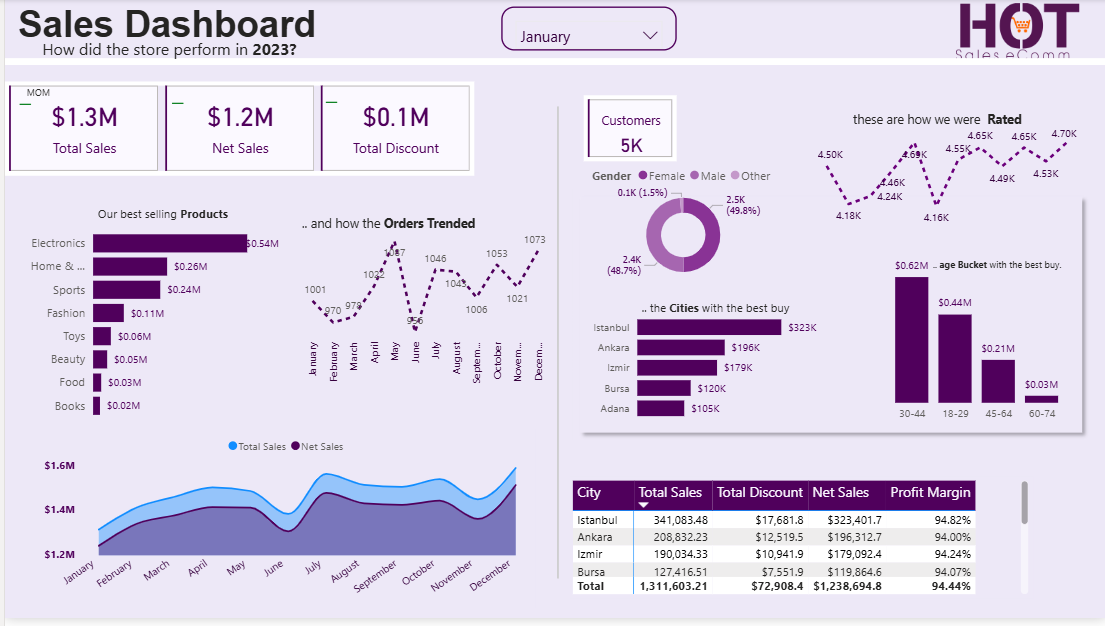

Layout of this report page (visuals, bound fields, positions):
{"tool":"powerbi","page":{"name":"Home","canvas":[1280,720],"ordinal":0},"visuals":[{"type":"shape","box":[659.5,220.3,601.4,291.9],"z":0},{"type":"pivotTable","fields":{"Rows":["location_dim.City"],"Values":["_Measures.Total Sales","_Measures.Total Discount","_Measures.Net Sales","_Measures.Profit Margin"]},"box":[654.7,554.7,539.6,141.5],"z":1000},{"type":"cardVisual","fields":{"Data":["_Measures.Total Sales","_Measures.Net Sales","_Measures.Total Discount"]},"box":[0,95.3,545.3,109.7],"z":2000},{"type":"clusteredBarChart","fields":{"Category":["product_dim.Product_Category"],"Y":["_Measures.Total Sales"]},"box":[10.9,250,312.5,250],"z":3000},{"type":"clusteredColumnChart","fields":{"Category":["customer_dim.Age_Bucket"],"Y":["_Measures.Total Sales"]},"box":[1009.3,286.7,241.3,213.3],"z":4000},{"type":"areaChart","fields":{"Category":["Data_Calendar.Date.Variation.Date Hierarchy.Month"],"Y":["_Measures.Total Sales","_Measures.Net Sales"]},"box":[40.3,500,575.8,208.1],"z":5000},{"type":"image","box":[1084.8,0,187,76.1],"z":6000},{"type":"shape","box":[0,60.2,1280.1,26.3],"z":7000},{"type":"textbox","box":[10.3,0,366,76.3],"z":8000},{"type":"textbox","box":[20.3,40.7,341.5,37.8],"z":9000},{"type":"cardVisual","fields":{"Data":["_Measures.Total Count of Customer"]},"box":[673.6,111.5,108,77],"z":10000},{"type":"shape","box":[631.1,125.7,24.3,548.6],"z":11000},{"type":"donutChart","fields":{"Category":["customer_dim.Gender"],"Y":["_Measures.Total Count of Customer"]},"box":[654.3,184.8,269.6,150],"z":12000},{"type":"lineChart","fields":{"Category":["Data_Calendar.Date.Variation.Date Hierarchy.Month"],"Y":["_Measures.Customer Rating"]},"box":[939.6,138.5,311,130.8],"z":13000},{"type":"lineChart","fields":{"Category":["Data_Calendar.Date.Variation.Date Hierarchy.Month"],"Y":["_Measures.Total Orders"]},"box":[334.4,257.8,300,203.1],"z":14000},{"type":"textbox","box":[102.6,234.9,169.7,34.2],"z":15000},{"type":"textbox","box":[980.5,125.6,300,50],"z":16000},{"type":"textbox","box":[340.1,244.9,300,30.6],"z":17000},{"type":"slicer","fields":{"Values":["Data_Calendar.Date.Variation.Date Hierarchy.Month"]},"box":[577.3,9.3,204.1,51.5],"z":19000},{"type":"cardVisual","fields":{"Data":["_Measures.%MOM"]},"box":[0,79.5,79.5,74.7],"z":20000},{"type":"textbox","box":[20.5,92.8,38.6,33.1],"z":21000},{"type":"cardVisual","fields":{"Data":["_Measures.%MOM Net Sales"]},"box":[177.5,78.4,79.9,74],"z":22000},{"type":"cardVisual","fields":{"Data":["_Measures.%MOM Discount Sales"]},"box":[355.6,76.1,90.6,77.8],"z":23000},{"type":"textbox","box":[735.6,343.9,188.6,31.1],"z":24000},{"type":"textbox","box":[1073.5,293.9,177.3,31.1],"z":25000},{"type":"clusteredBarChart","fields":{"Category":["location_dim.City"],"Y":["_Measures.Net Sales"]},"box":[673.7,350,281.4,150],"z":26000}]}

Visuals, with their boxes in screenshot pixels (x1, y1, x2, y2), scaled from the page's 1280x720 canvas onto the 1105x626 screenshot:
shape: locate(569, 192, 1089, 445)
pivotTable - location_dim.City x _Measures.Total Sales: locate(565, 482, 1031, 605)
cardVisual - _Measures.Total Sales x _Measures.Net Sales: locate(0, 83, 471, 178)
clusteredBarChart - product_dim.Product_Category x _Measures.Total Sales: locate(9, 217, 279, 435)
clusteredColumnChart - customer_dim.Age_Bucket x _Measures.Total Sales: locate(871, 249, 1080, 435)
areaChart - Data_Calendar.Date.Variation.Date Hierarchy.Month x _Measures.Total Sales: locate(35, 435, 532, 616)
image: locate(936, 0, 1098, 66)
shape: locate(0, 52, 1104, 75)
textbox: locate(9, 0, 325, 66)
textbox: locate(18, 35, 312, 68)
cardVisual - _Measures.Total Count of Customer: locate(582, 97, 675, 164)
shape: locate(545, 109, 566, 586)
donutChart - customer_dim.Gender x _Measures.Total Count of Customer: locate(565, 161, 798, 291)
lineChart - Data_Calendar.Date.Variation.Date Hierarchy.Month x _Measures.Customer Rating: locate(811, 120, 1080, 234)
lineChart - Data_Calendar.Date.Variation.Date Hierarchy.Month x _Measures.Total Orders: locate(289, 224, 548, 401)
textbox: locate(89, 204, 235, 234)
textbox: locate(846, 109, 1104, 153)
textbox: locate(294, 213, 553, 240)
slicer - Data_Calendar.Date.Variation.Date Hierarchy.Month: locate(498, 8, 675, 53)
cardVisual - _Measures.%MOM: locate(0, 69, 69, 134)
textbox: locate(18, 81, 51, 109)
cardVisual - _Measures.%MOM Net Sales: locate(153, 68, 222, 133)
cardVisual - _Measures.%MOM Discount Sales: locate(307, 66, 385, 134)
textbox: locate(635, 299, 798, 326)
textbox: locate(927, 256, 1080, 283)
clusteredBarChart - location_dim.City x _Measures.Net Sales: locate(582, 304, 825, 435)
